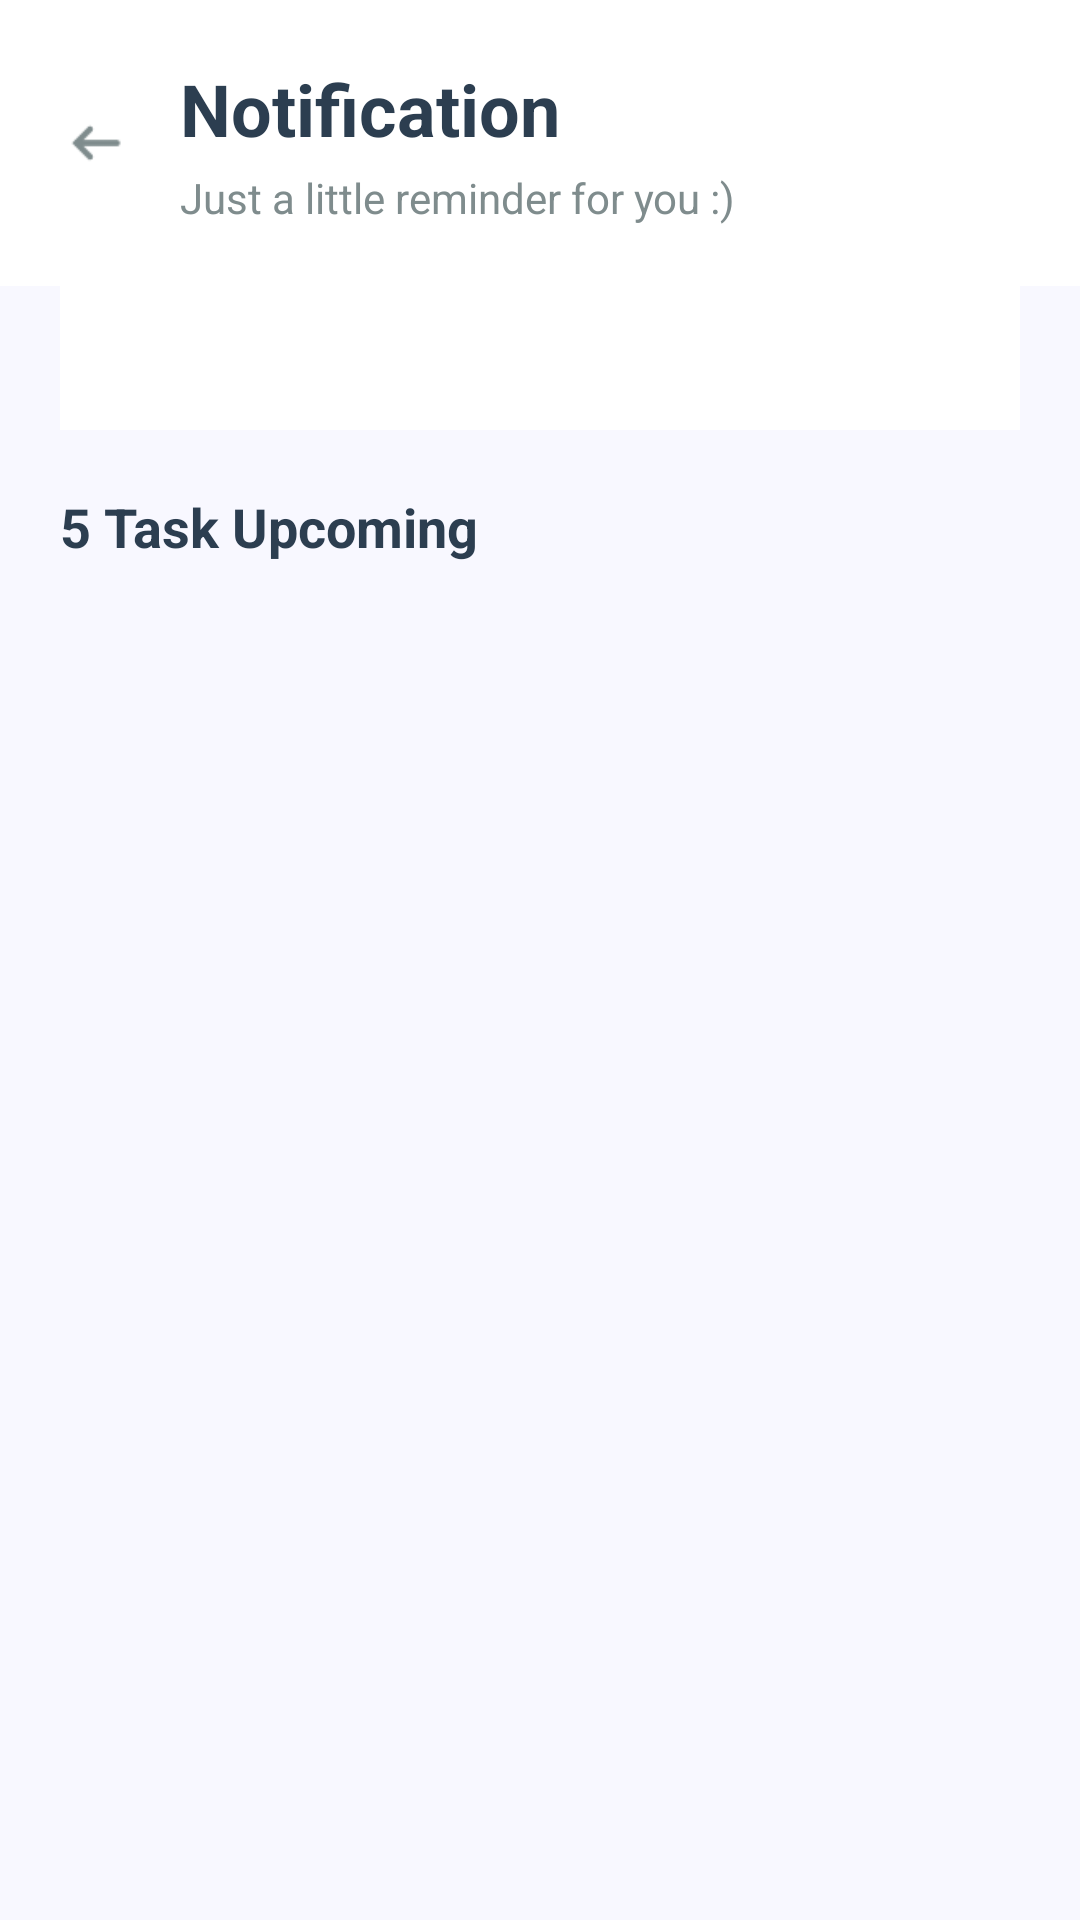

Screen size 1080*1920. Icon name, then its box in pixels as (left=x1, top=y1, right=x2, bottom=y2):
back: (left=72, top=126, right=121, bottom=160)
